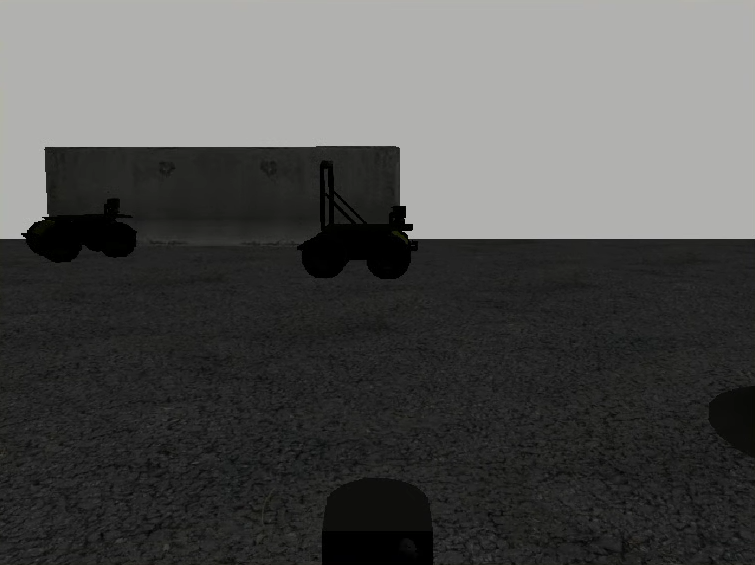husky: (297, 223, 421, 279), (21, 213, 138, 262)
